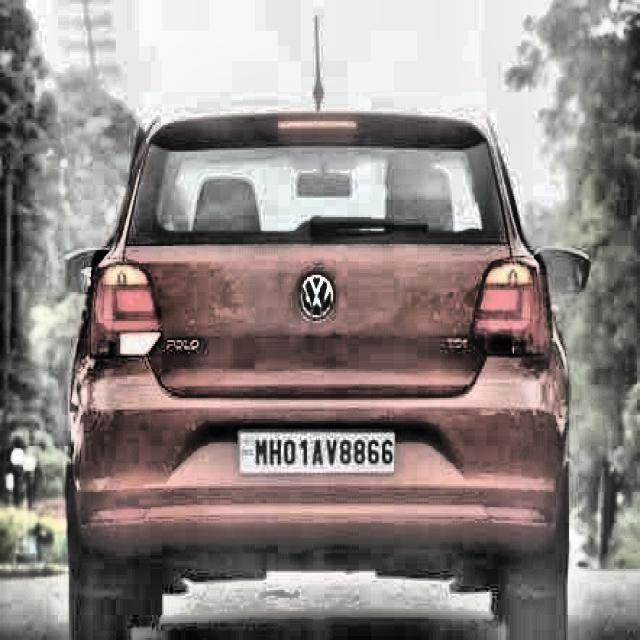license_plate: (240, 426, 397, 481)
